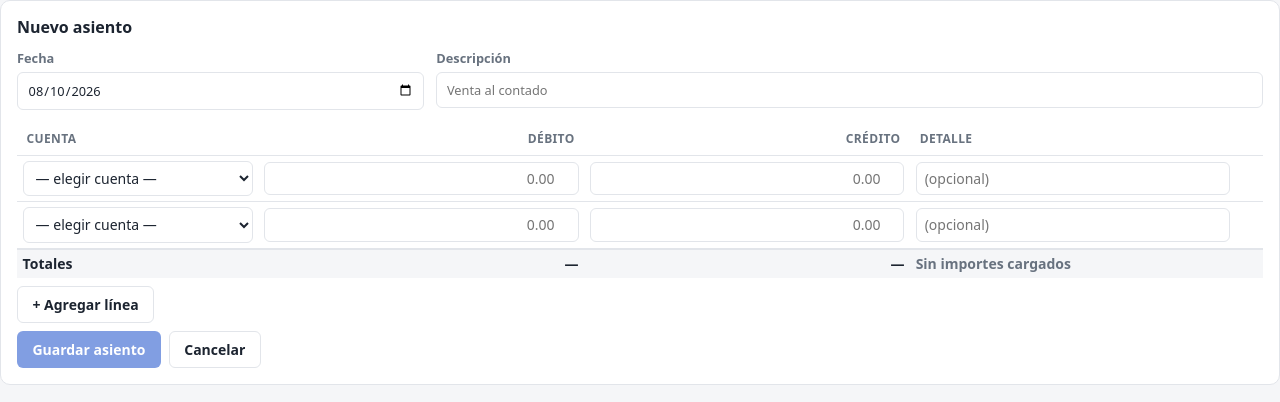
Test case: AsientoNuevo › escribir en un lado limpia el otro: débito y crédito son excluyentes
Type "500" into the 1st number field with placeholder "0.00" at (421, 178), box [264,162,579,195]
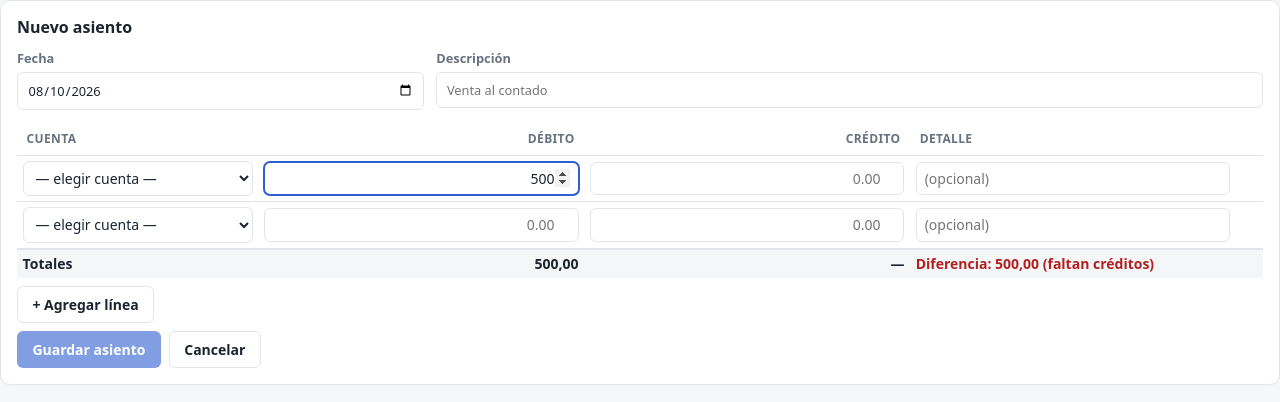
Type "300" into the 1st number field with placeholder "0.00" at (747, 178), box [590,162,904,195]
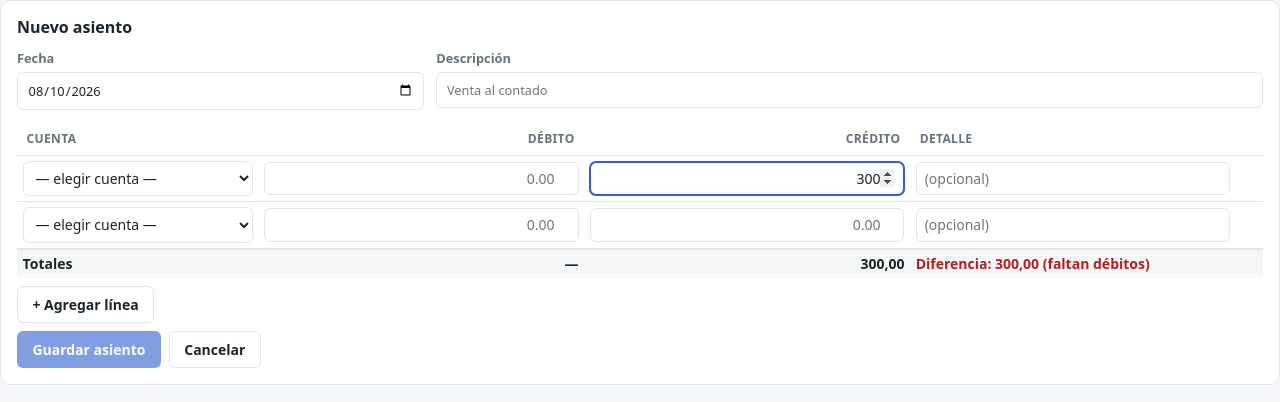
Expected: the 1st number field with placeholder "0.00" is not empty, [264,162,579,195]
